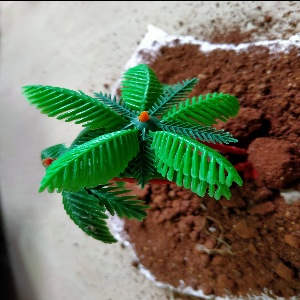plant: (19, 63, 242, 246)
